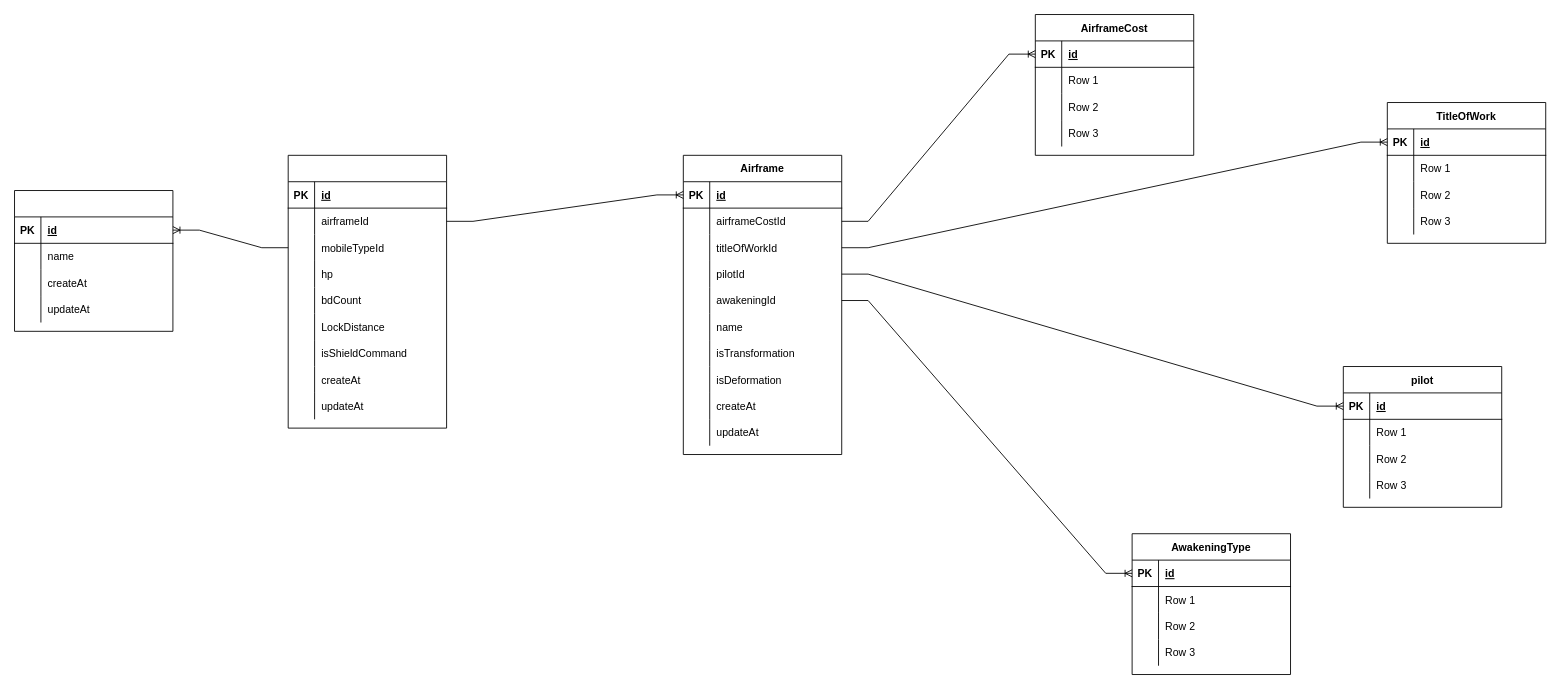
This 1560x689 diagram has some shape labels left out. Here are the shapes that lost their labels. From the top down, the box of each, then its label:
(14, 190, 173, 331): MobileType
(287, 154, 447, 428): AirframeDetails
